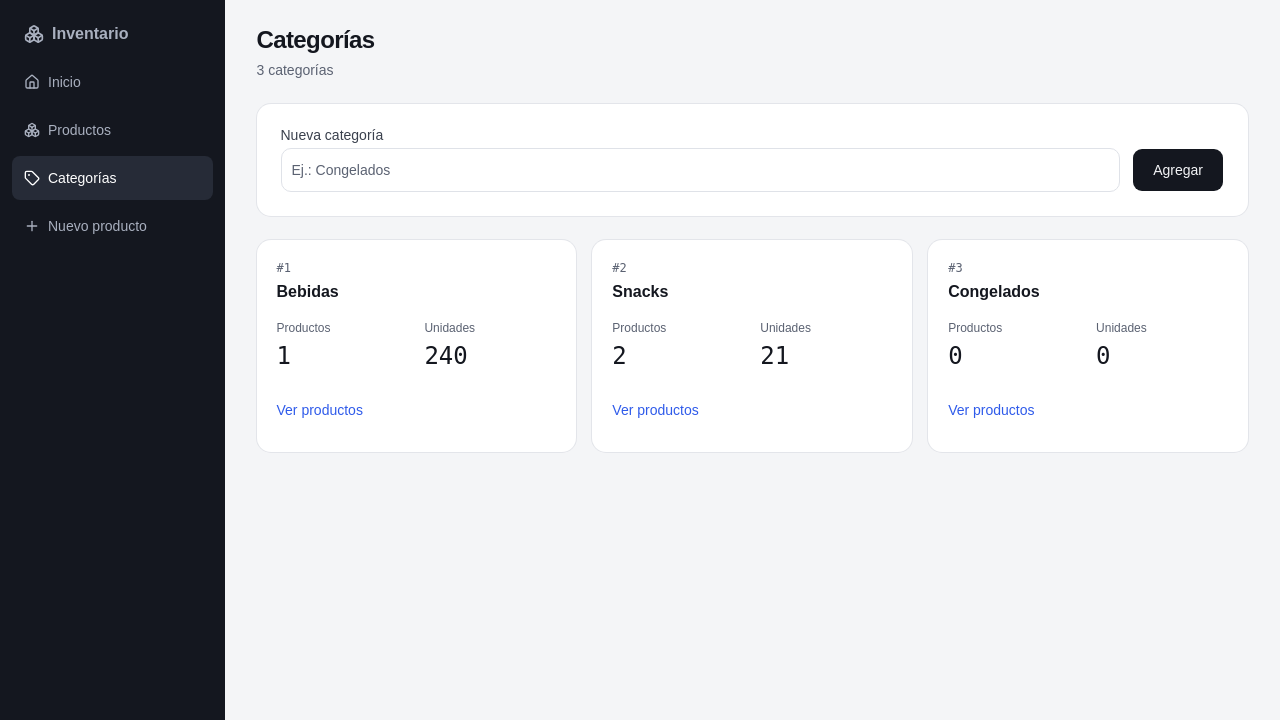
Test: CategoriesPage › CA3: "Ver productos" navega a /products?category=<id> y filtra la tabla
Check: the heading "Snacks" is shown, box 612,283 -> 668,300
Click the link "Ver productos" below "21": [656, 410] box 612,402 -> 699,418
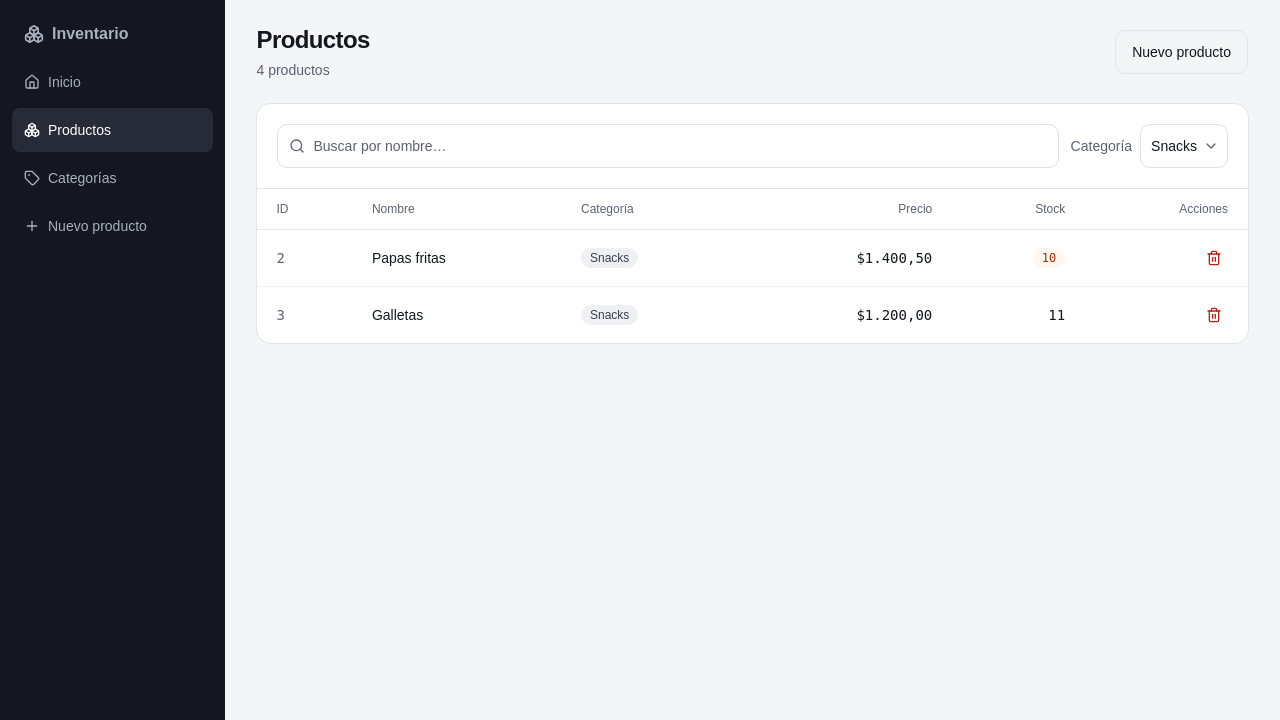
Check: the text "Papas fritas" is shown, box 352,229 -> 561,286
Check: the text "Galletas" is shown, box 352,286 -> 561,342
